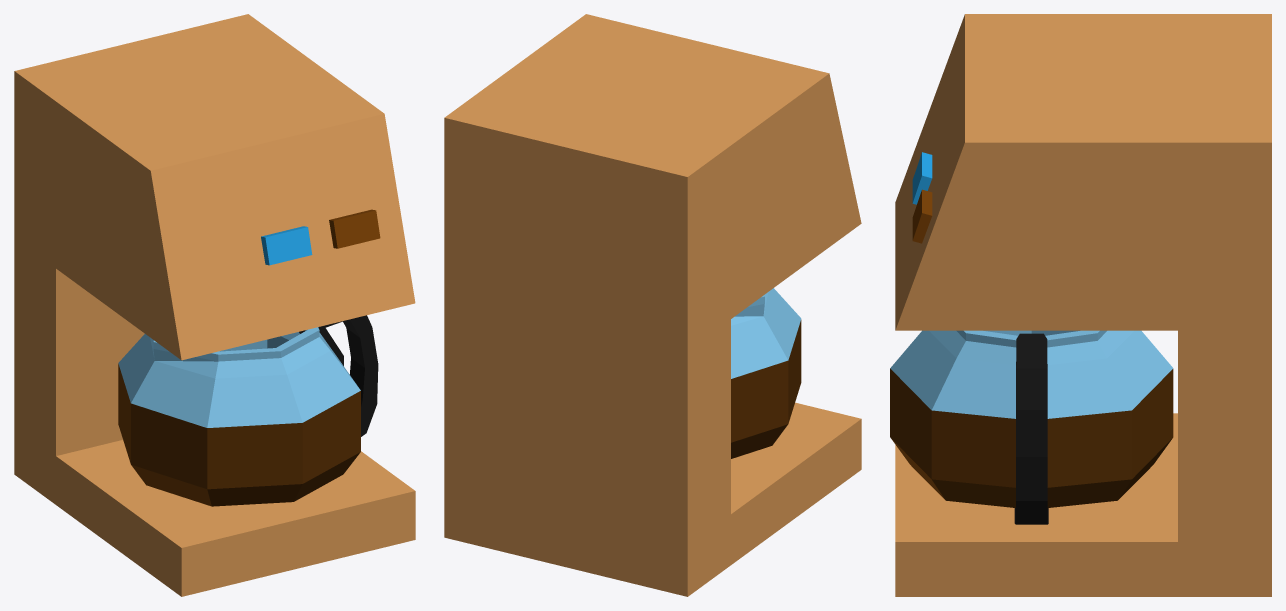
Rendered from coffeMachine.fbx.
The picture shows the model from 3 angles, left to right: view 1: azimuth 30°, elevation 25°; view 2: azimuth 150°, elevation 25°; view 3: azimuth 270°, elevation 25°; orthographic projection. The views are drawn at different scales.
Visible parts, largest first — view 1: CoffeMachine; view 2: CoffeMachine; view 3: CoffeMachine.
Part boxes in pixels (x1,y1,x2,y2): CoffeMachine: (14,14,415,596); CoffeMachine: (444,14,861,596); CoffeMachine: (890,14,1271,596).
Bounding box in the file's own units: 718 × 1106 × 842.
